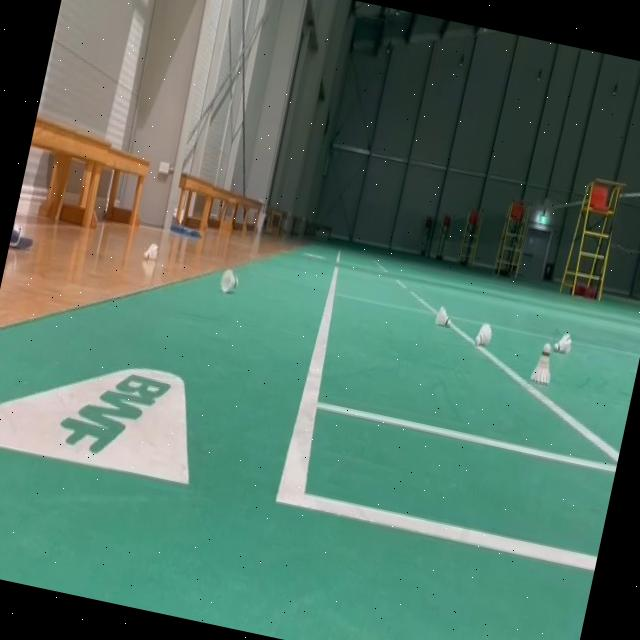Shuttle: (528, 339, 558, 386), (218, 267, 241, 296), (472, 321, 494, 348), (552, 330, 574, 356), (434, 304, 454, 328), (142, 240, 160, 262)
